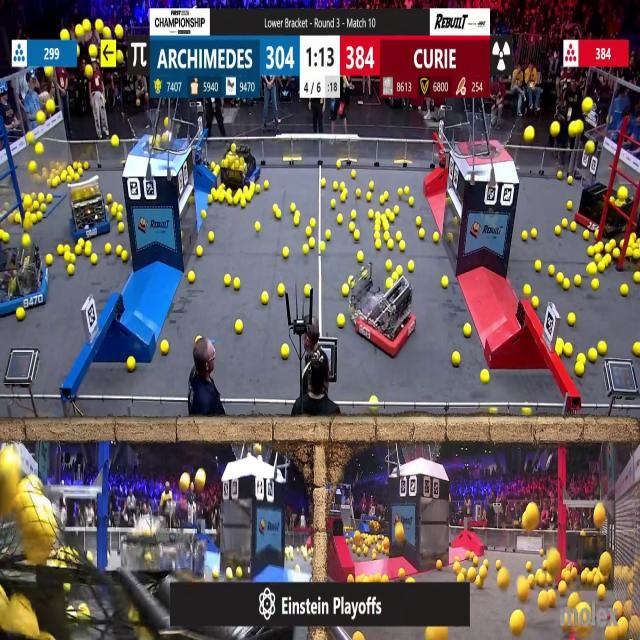ball_airborne: (524, 506, 538, 531), (594, 506, 605, 529), (600, 553, 611, 574), (196, 472, 207, 491), (180, 474, 190, 492), (571, 120, 582, 135), (584, 98, 594, 113), (551, 124, 561, 138), (525, 127, 534, 142), (45, 100, 54, 114), (587, 141, 596, 154), (95, 20, 104, 33), (154, 135, 162, 149), (24, 197, 32, 210), (115, 26, 122, 40), (118, 51, 125, 65), (86, 66, 94, 78), (37, 111, 45, 123), (23, 235, 31, 247), (82, 21, 90, 33), (91, 44, 98, 56), (163, 134, 170, 146), (29, 162, 36, 174), (104, 28, 111, 39), (111, 136, 118, 147), (25, 219, 32, 230), (28, 132, 34, 144), (36, 142, 42, 154), (45, 67, 52, 77), (255, 445, 261, 456), (165, 118, 170, 125)
ball_ground: (511, 613, 525, 637), (518, 584, 529, 602), (498, 570, 508, 587), (549, 592, 557, 608), (568, 594, 577, 608), (128, 356, 136, 371), (538, 596, 546, 611), (589, 349, 598, 362), (162, 341, 170, 355), (598, 342, 606, 356), (281, 345, 289, 359), (236, 320, 244, 334), (598, 586, 606, 600), (556, 342, 564, 356), (15, 308, 24, 320), (482, 371, 490, 384), (575, 362, 583, 375), (564, 344, 572, 357), (558, 583, 566, 596), (451, 352, 458, 366), (225, 568, 233, 580), (524, 284, 532, 296), (1, 232, 9, 244), (537, 572, 545, 584), (464, 323, 471, 336), (568, 313, 575, 326), (339, 314, 346, 327), (633, 343, 640, 356), (588, 265, 596, 276), (466, 568, 474, 579), (187, 272, 194, 284), (263, 291, 270, 303), (305, 284, 312, 296), (223, 275, 230, 287), (622, 284, 629, 296), (474, 576, 481, 588), (83, 244, 90, 256), (576, 353, 584, 363), (443, 277, 450, 288), (68, 266, 75, 277), (563, 279, 570, 290), (534, 262, 541, 273), (435, 560, 442, 571), (105, 244, 112, 255), (235, 278, 241, 290), (343, 284, 349, 296), (532, 296, 538, 308), (523, 409, 531, 418), (547, 266, 553, 278), (92, 254, 99, 264), (592, 280, 599, 290), (386, 262, 393, 272), (58, 245, 65, 255), (212, 568, 219, 578), (395, 266, 402, 276), (595, 252, 602, 262), (309, 239, 316, 249), (218, 191, 225, 201), (604, 254, 611, 264), (597, 243, 604, 253), (283, 247, 289, 258), (278, 284, 284, 295), (634, 273, 640, 284), (237, 567, 243, 578), (574, 276, 580, 287), (357, 251, 363, 262), (452, 564, 458, 575), (356, 574, 364, 582), (388, 214, 396, 222), (375, 572, 383, 580), (383, 233, 390, 242), (115, 246, 122, 255), (383, 221, 390, 230), (369, 394, 376, 403), (614, 249, 621, 258), (420, 230, 426, 240), (409, 263, 415, 273), (388, 240, 394, 250), (556, 224, 562, 234), (398, 242, 404, 252), (523, 232, 529, 242), (584, 231, 590, 241), (416, 216, 422, 226), (570, 221, 576, 231), (195, 246, 201, 256), (117, 222, 123, 232), (367, 210, 373, 220), (76, 246, 82, 256), (327, 230, 333, 240), (481, 567, 487, 577), (598, 264, 604, 274), (65, 252, 71, 262), (120, 251, 126, 261), (320, 178, 326, 188), (365, 190, 371, 200), (557, 274, 563, 284), (526, 562, 532, 572), (528, 574, 534, 584), (545, 574, 551, 584), (408, 576, 416, 583), (348, 222, 355, 230), (490, 409, 497, 417), (46, 254, 51, 265), (320, 242, 325, 253), (532, 230, 538, 239), (589, 247, 595, 256), (566, 202, 572, 211), (276, 210, 282, 219), (354, 232, 360, 241), (458, 573, 464, 582), (396, 233, 402, 242), (562, 219, 568, 228), (293, 217, 299, 226), (331, 181, 337, 190), (382, 573, 388, 582), (380, 196, 386, 205), (32, 213, 38, 222), (226, 197, 232, 206), (88, 553, 94, 562), (14, 214, 20, 223), (246, 191, 252, 200), (397, 187, 403, 196), (38, 193, 44, 202), (398, 568, 403, 578), (209, 233, 214, 243), (377, 240, 382, 250), (433, 234, 438, 244), (304, 245, 309, 255), (351, 210, 356, 220), (307, 226, 312, 236), (348, 574, 354, 582), (254, 222, 260, 230), (341, 192, 347, 200), (375, 233, 381, 241), (594, 232, 600, 240), (348, 276, 354, 284), (557, 172, 563, 180), (234, 198, 240, 206), (375, 212, 381, 220), (67, 174, 73, 182), (74, 173, 80, 181), (339, 214, 344, 223), (330, 200, 335, 209), (356, 188, 361, 197), (410, 198, 415, 207), (311, 218, 316, 227), (290, 204, 295, 213), (341, 181, 346, 190), (376, 221, 381, 230), (65, 245, 70, 254), (361, 272, 367, 279), (78, 169, 84, 176), (78, 240, 84, 247), (202, 210, 207, 218), (241, 200, 246, 208), (496, 560, 500, 570), (255, 184, 260, 192), (46, 194, 51, 202), (351, 171, 356, 179), (403, 186, 408, 194), (631, 234, 636, 242), (472, 558, 477, 566), (621, 240, 626, 248), (294, 210, 299, 218), (111, 208, 116, 216), (394, 207, 398, 216), (266, 180, 270, 189), (568, 176, 572, 185), (208, 194, 212, 203), (108, 193, 112, 202), (454, 556, 460, 562), (371, 553, 376, 560), (449, 235, 454, 242), (465, 553, 470, 560), (539, 550, 544, 557), (112, 203, 117, 210), (368, 182, 372, 190), (84, 162, 88, 170), (384, 190, 388, 198), (338, 162, 342, 170), (120, 214, 124, 222), (392, 273, 396, 281), (212, 163, 216, 171), (352, 543, 356, 551), (274, 204, 278, 212), (485, 560, 489, 567), (212, 187, 216, 194), (295, 565, 299, 572)
goal: (459, 118, 516, 158), (129, 114, 188, 152)
robot_blue: (122, 531, 184, 612), (0, 247, 48, 312), (71, 181, 111, 239), (220, 144, 260, 190)
robot_red: (353, 278, 416, 357), (579, 173, 607, 228)
